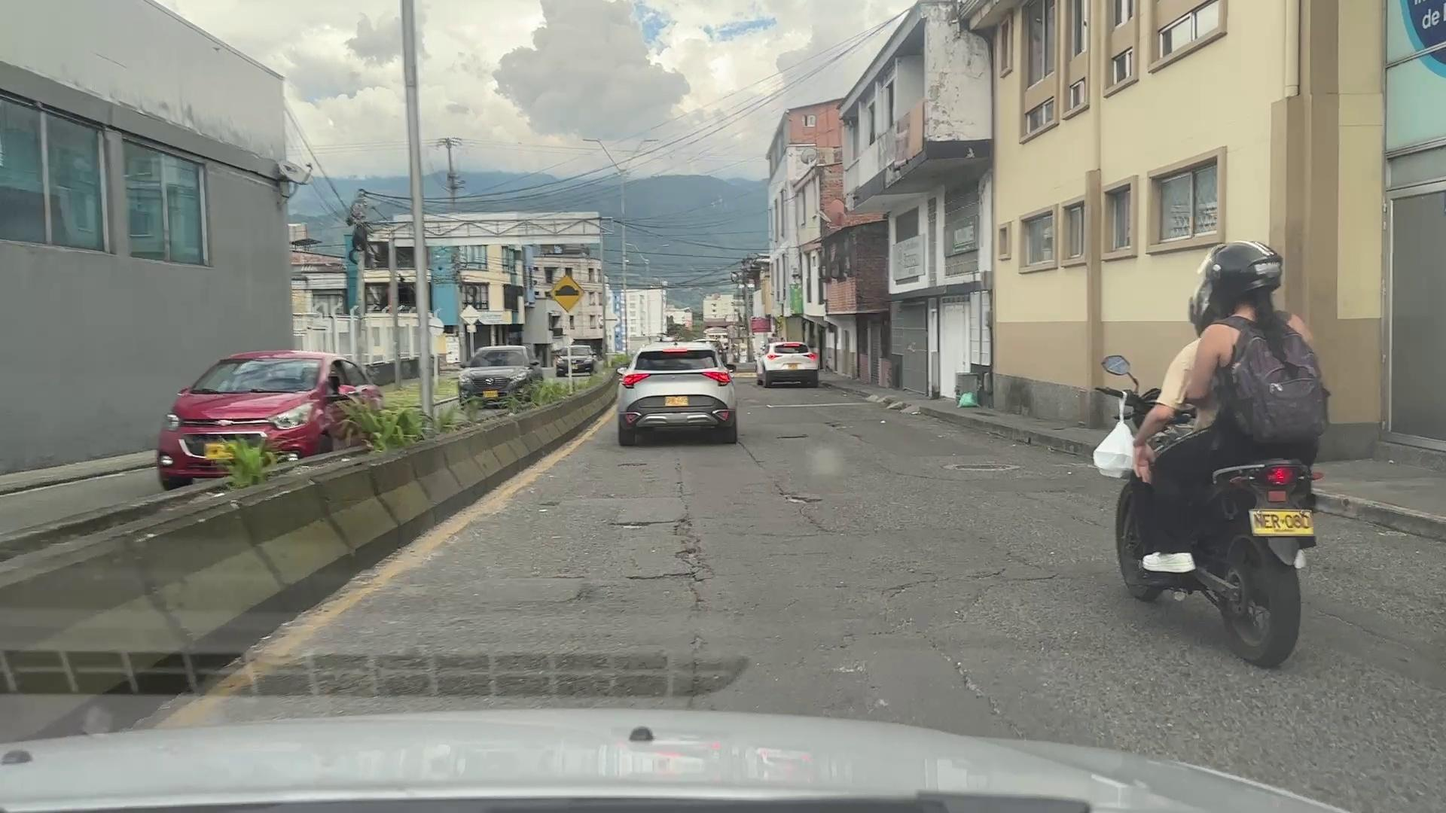bache: (628, 573, 695, 579), (785, 495, 820, 504), (613, 522, 651, 529), (777, 434, 808, 439), (618, 463, 647, 467)
grieta: (673, 512, 716, 611)
registro: (943, 462, 1018, 473)
